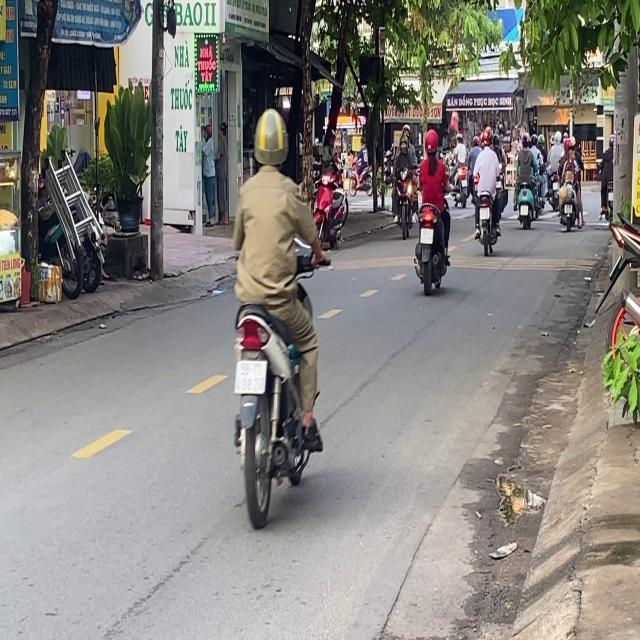helmet: (250, 106, 288, 173), (423, 128, 438, 156)
licenseplate: (224, 105, 328, 522), (412, 126, 452, 292)
nohelmet: (234, 360, 266, 392), (420, 228, 432, 243)
